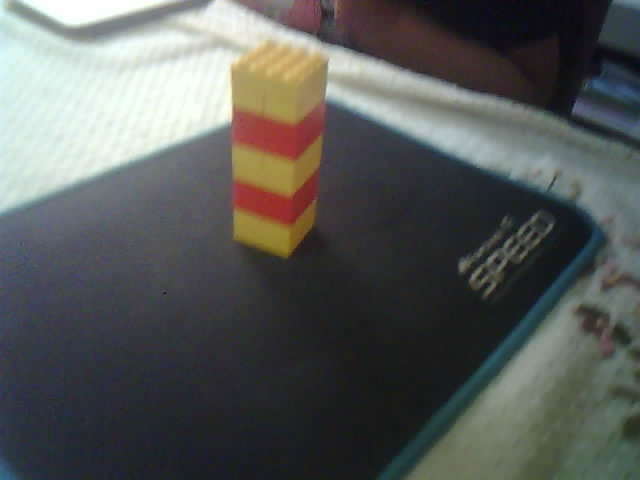lego: (230, 38, 330, 261)
